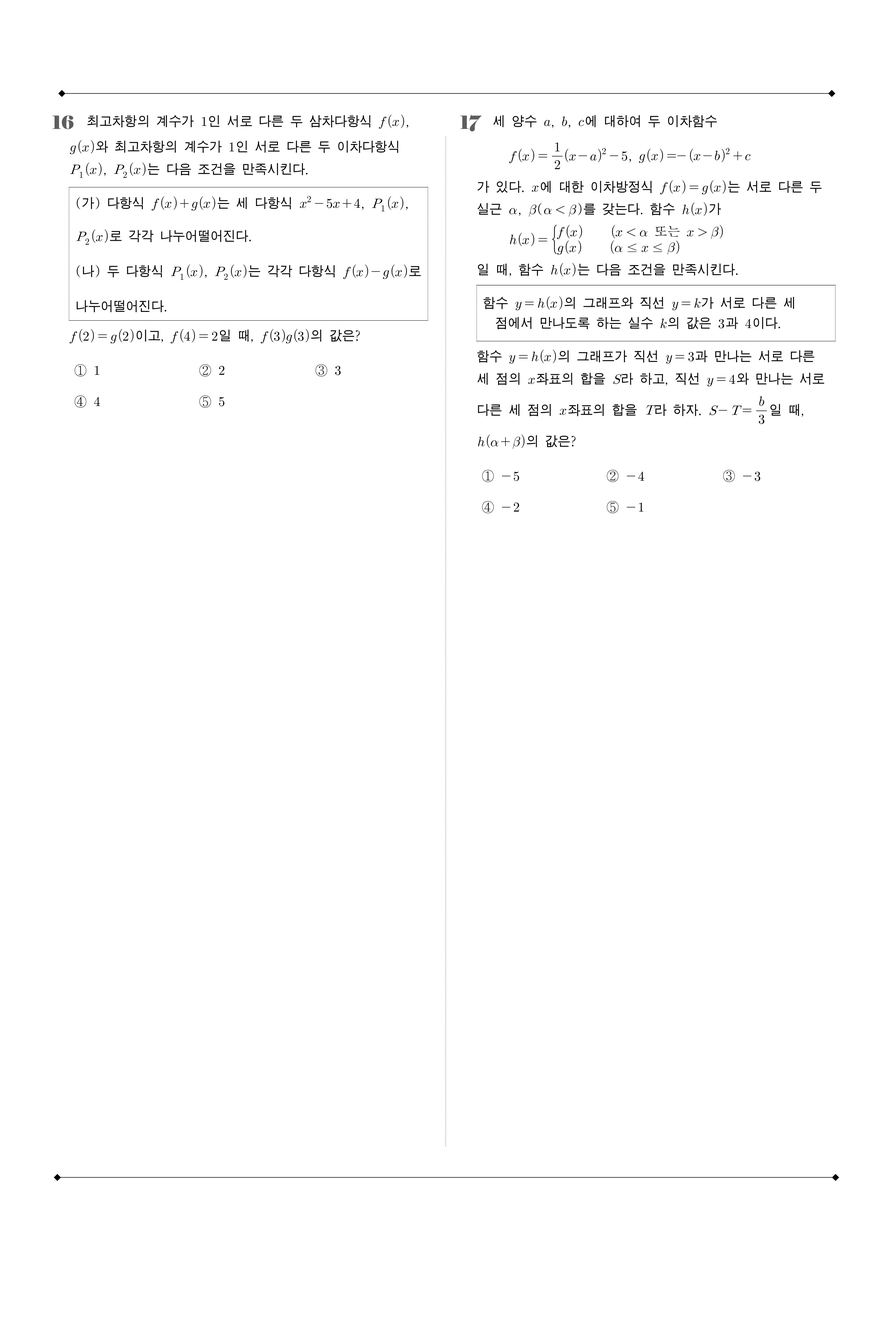problem: (455, 104, 842, 519), (47, 106, 439, 414)
